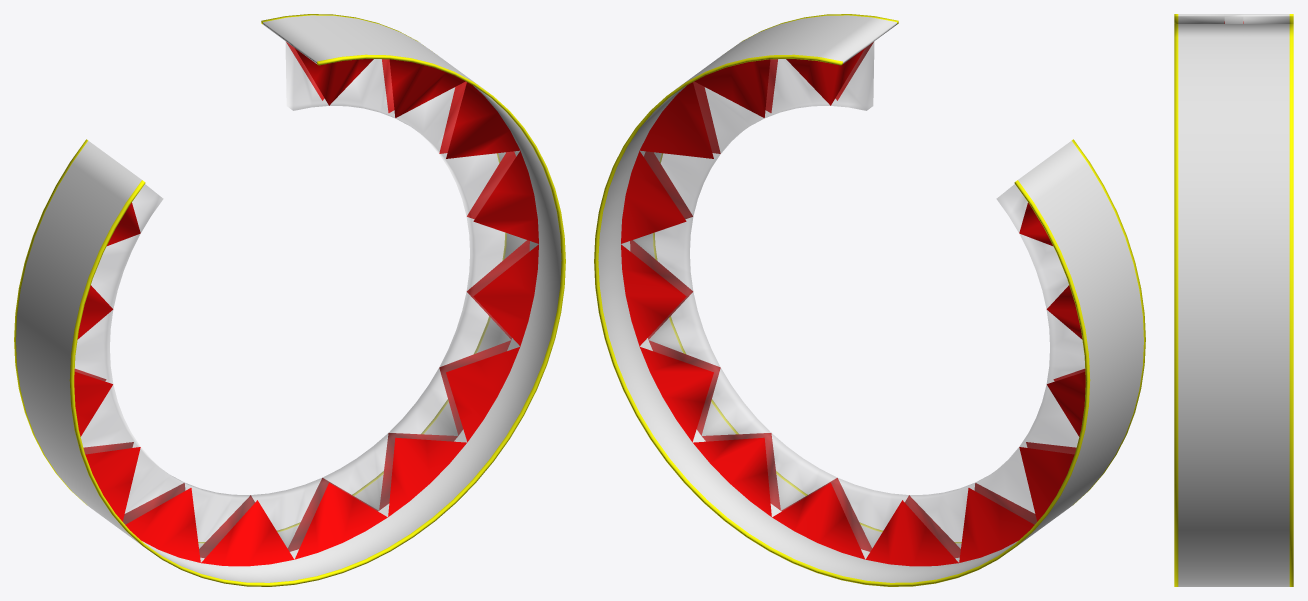
The model's file is FlickNote13.fbx.
3 renders of one model, left to right at view 1: azimuth 30°, elevation 25°; view 2: azimuth 150°, elevation 25°; view 3: azimuth 270°, elevation 25°, orthographic. The views are drawn at different scales.
Parts seen in each view (by area): view 1: FlickNote13; view 2: FlickNote13; view 3: FlickNote13.
Part boxes in pixels (x1,y1,x2,y2): FlickNote13: [14, 14, 565, 586]; FlickNote13: [594, 14, 1145, 586]; FlickNote13: [1174, 14, 1293, 586].
Bounding box in the file's own units: 198 × 40 × 198.
